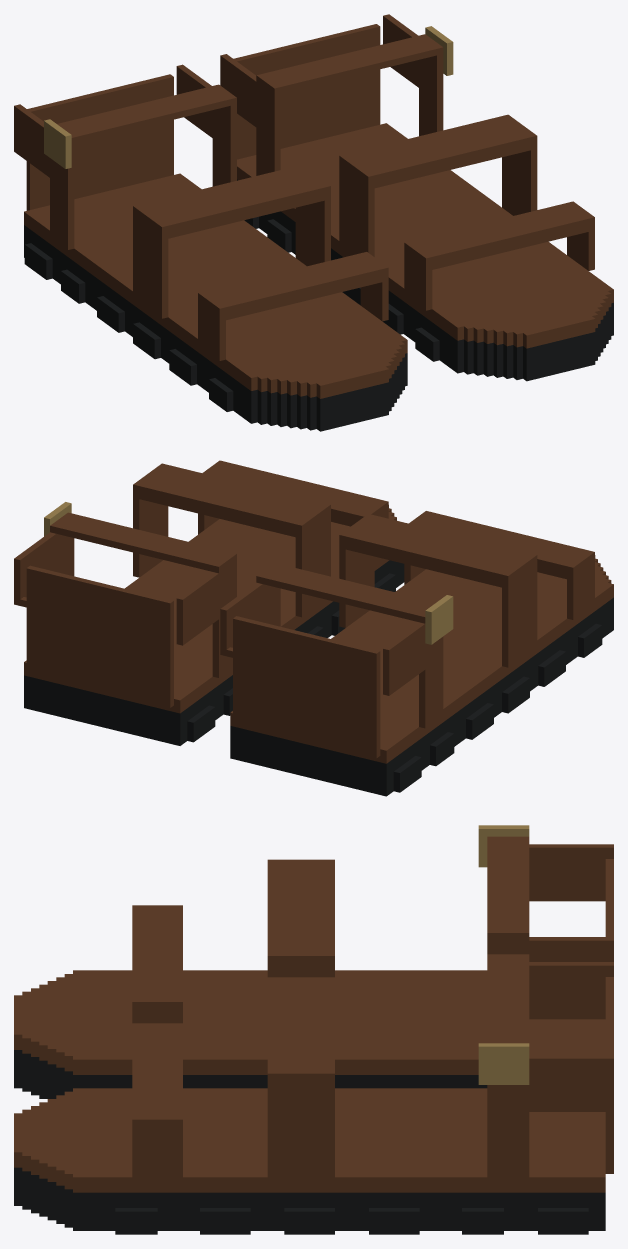
File: leathersandals.glb
3 renders of one model, top to bottom at view 1: azimuth 30°, elevation 25°; view 2: azimuth 150°, elevation 25°; view 3: azimuth 270°, elevation 25°, orthographic. The views are drawn at different scales.
Parts seen in each view (by area): view 1: leathersandals:compound; view 2: leathersandals:compound; view 3: leathersandals:compound.
Part boxes in pixels (bbox=[...]): leathersandals:compound: bbox=[14, 14, 613, 431]; leathersandals:compound: bbox=[14, 460, 613, 796]; leathersandals:compound: bbox=[14, 825, 613, 1234].
Bounding box in the file's own units: 0.248 × 0.1 × 0.284.
